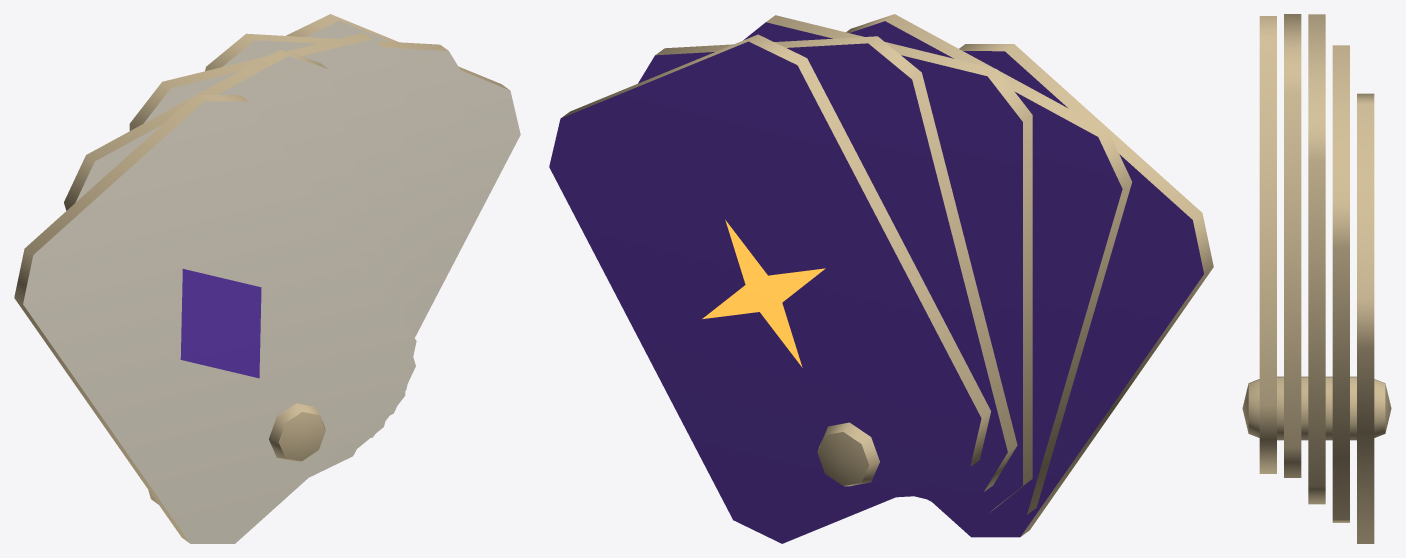
Rendered from trick-deck-1.glb.
3 views of the same model, side by side, from view 1: azimuth 30°, elevation 25°; view 2: azimuth 150°, elevation 25°; view 3: azimuth 270°, elevation 25° (orthographic). The views are drawn at different scales.
Parts seen in each view (by area): view 1: trick-deck-1; view 2: trick-deck-1; view 3: trick-deck-1.
Boxes of the visible parts, box(x1,y1,x2,y2) form: trick-deck-1: box(14, 14, 520, 543); trick-deck-1: box(549, 14, 1213, 543); trick-deck-1: box(1242, 14, 1391, 543).
Bounding box in the file's own units: 0.1436 × 0.1161 × 0.0344.
